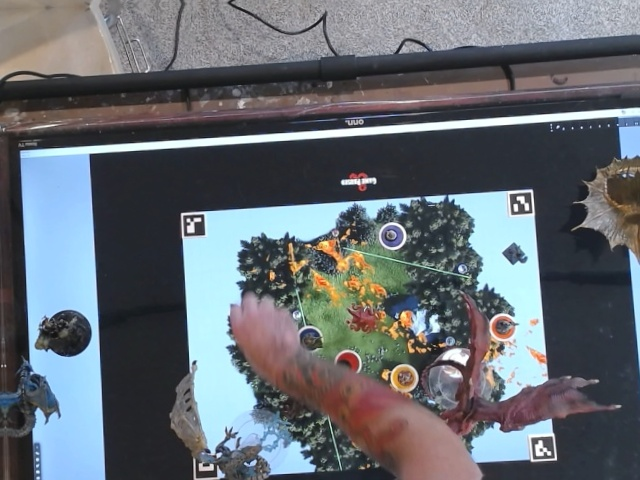blue: (290, 318, 325, 354)
orange: (485, 308, 522, 346)
red: (328, 346, 366, 377)
violet: (375, 219, 409, 254)
yellow: (383, 360, 422, 395)
